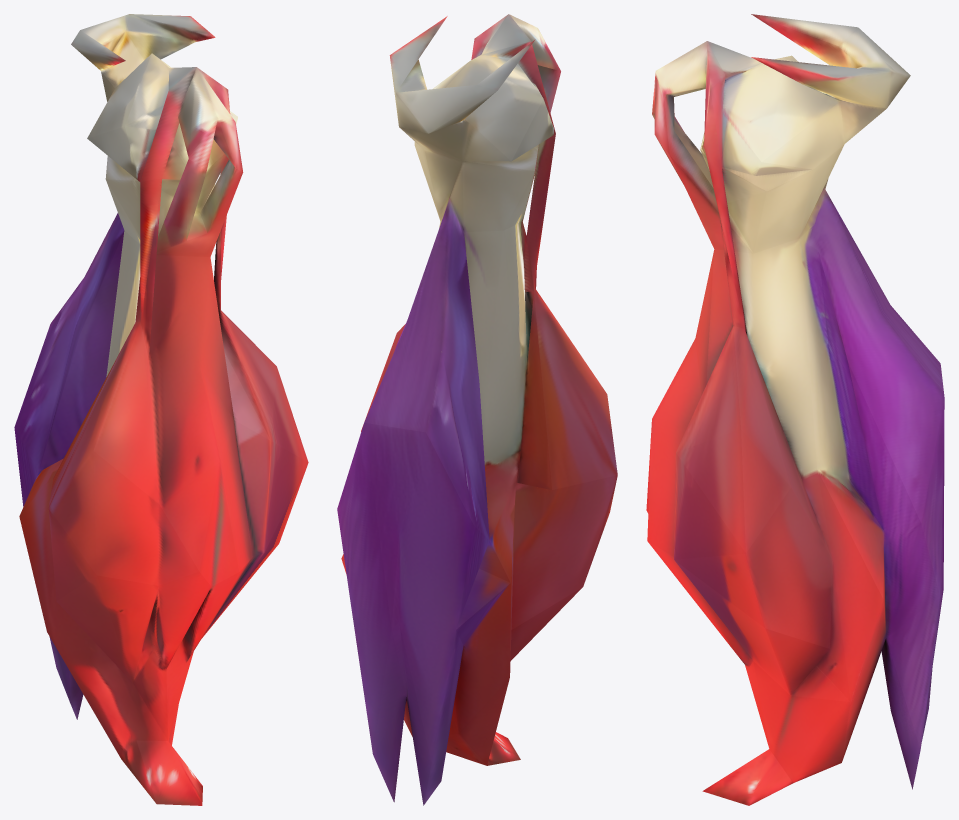
Rendered from base_basic_shaded.fbx.
3 renders of one model, left to right at view 1: azimuth 30°, elevation 25°; view 2: azimuth 150°, elevation 25°; view 3: azimuth 270°, elevation 25°, orthographic. The views are drawn at different scales.
Parts seen in each view (by area): view 1: model; view 2: model; view 3: model.
Part boxes in pixels (box(x1,y1,x2,y2)): model: box(14, 14, 308, 805); model: box(337, 14, 617, 805); model: box(646, 14, 944, 805).
Bounding box in the file's own units: 66.68 × 182 × 65.17.
